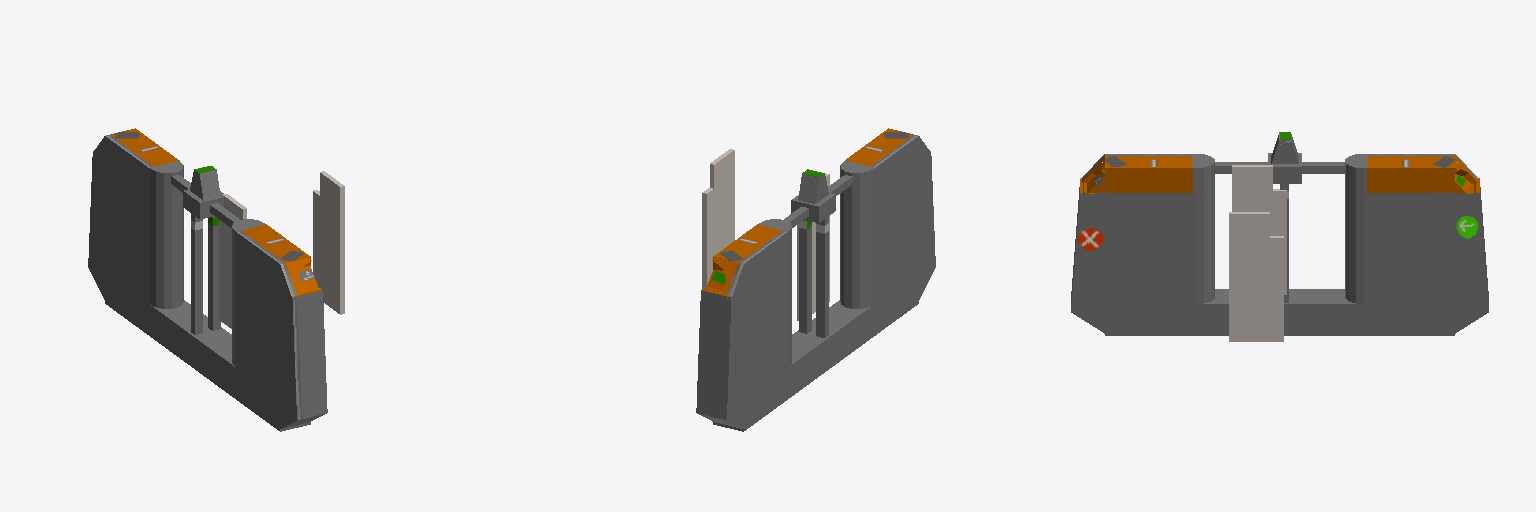
The picture shows the model from 3 angles: view 1: azimuth 30°, elevation 25°; view 2: azimuth 150°, elevation 25°; view 3: azimuth 270°, elevation 25°; orthographic projection.
Visible parts, largest first — view 1: cube; view 2: cube; view 3: cube.
Boxes of the visible parts, <box> form: cube: <box>88,128,344,431</box>; cube: <box>696,128,935,431</box>; cube: <box>1071,132,1488,341</box>.
Bounding box in the file's own units: 1.04 × 1.51 × 2.96.
1 materials, 1 textured.